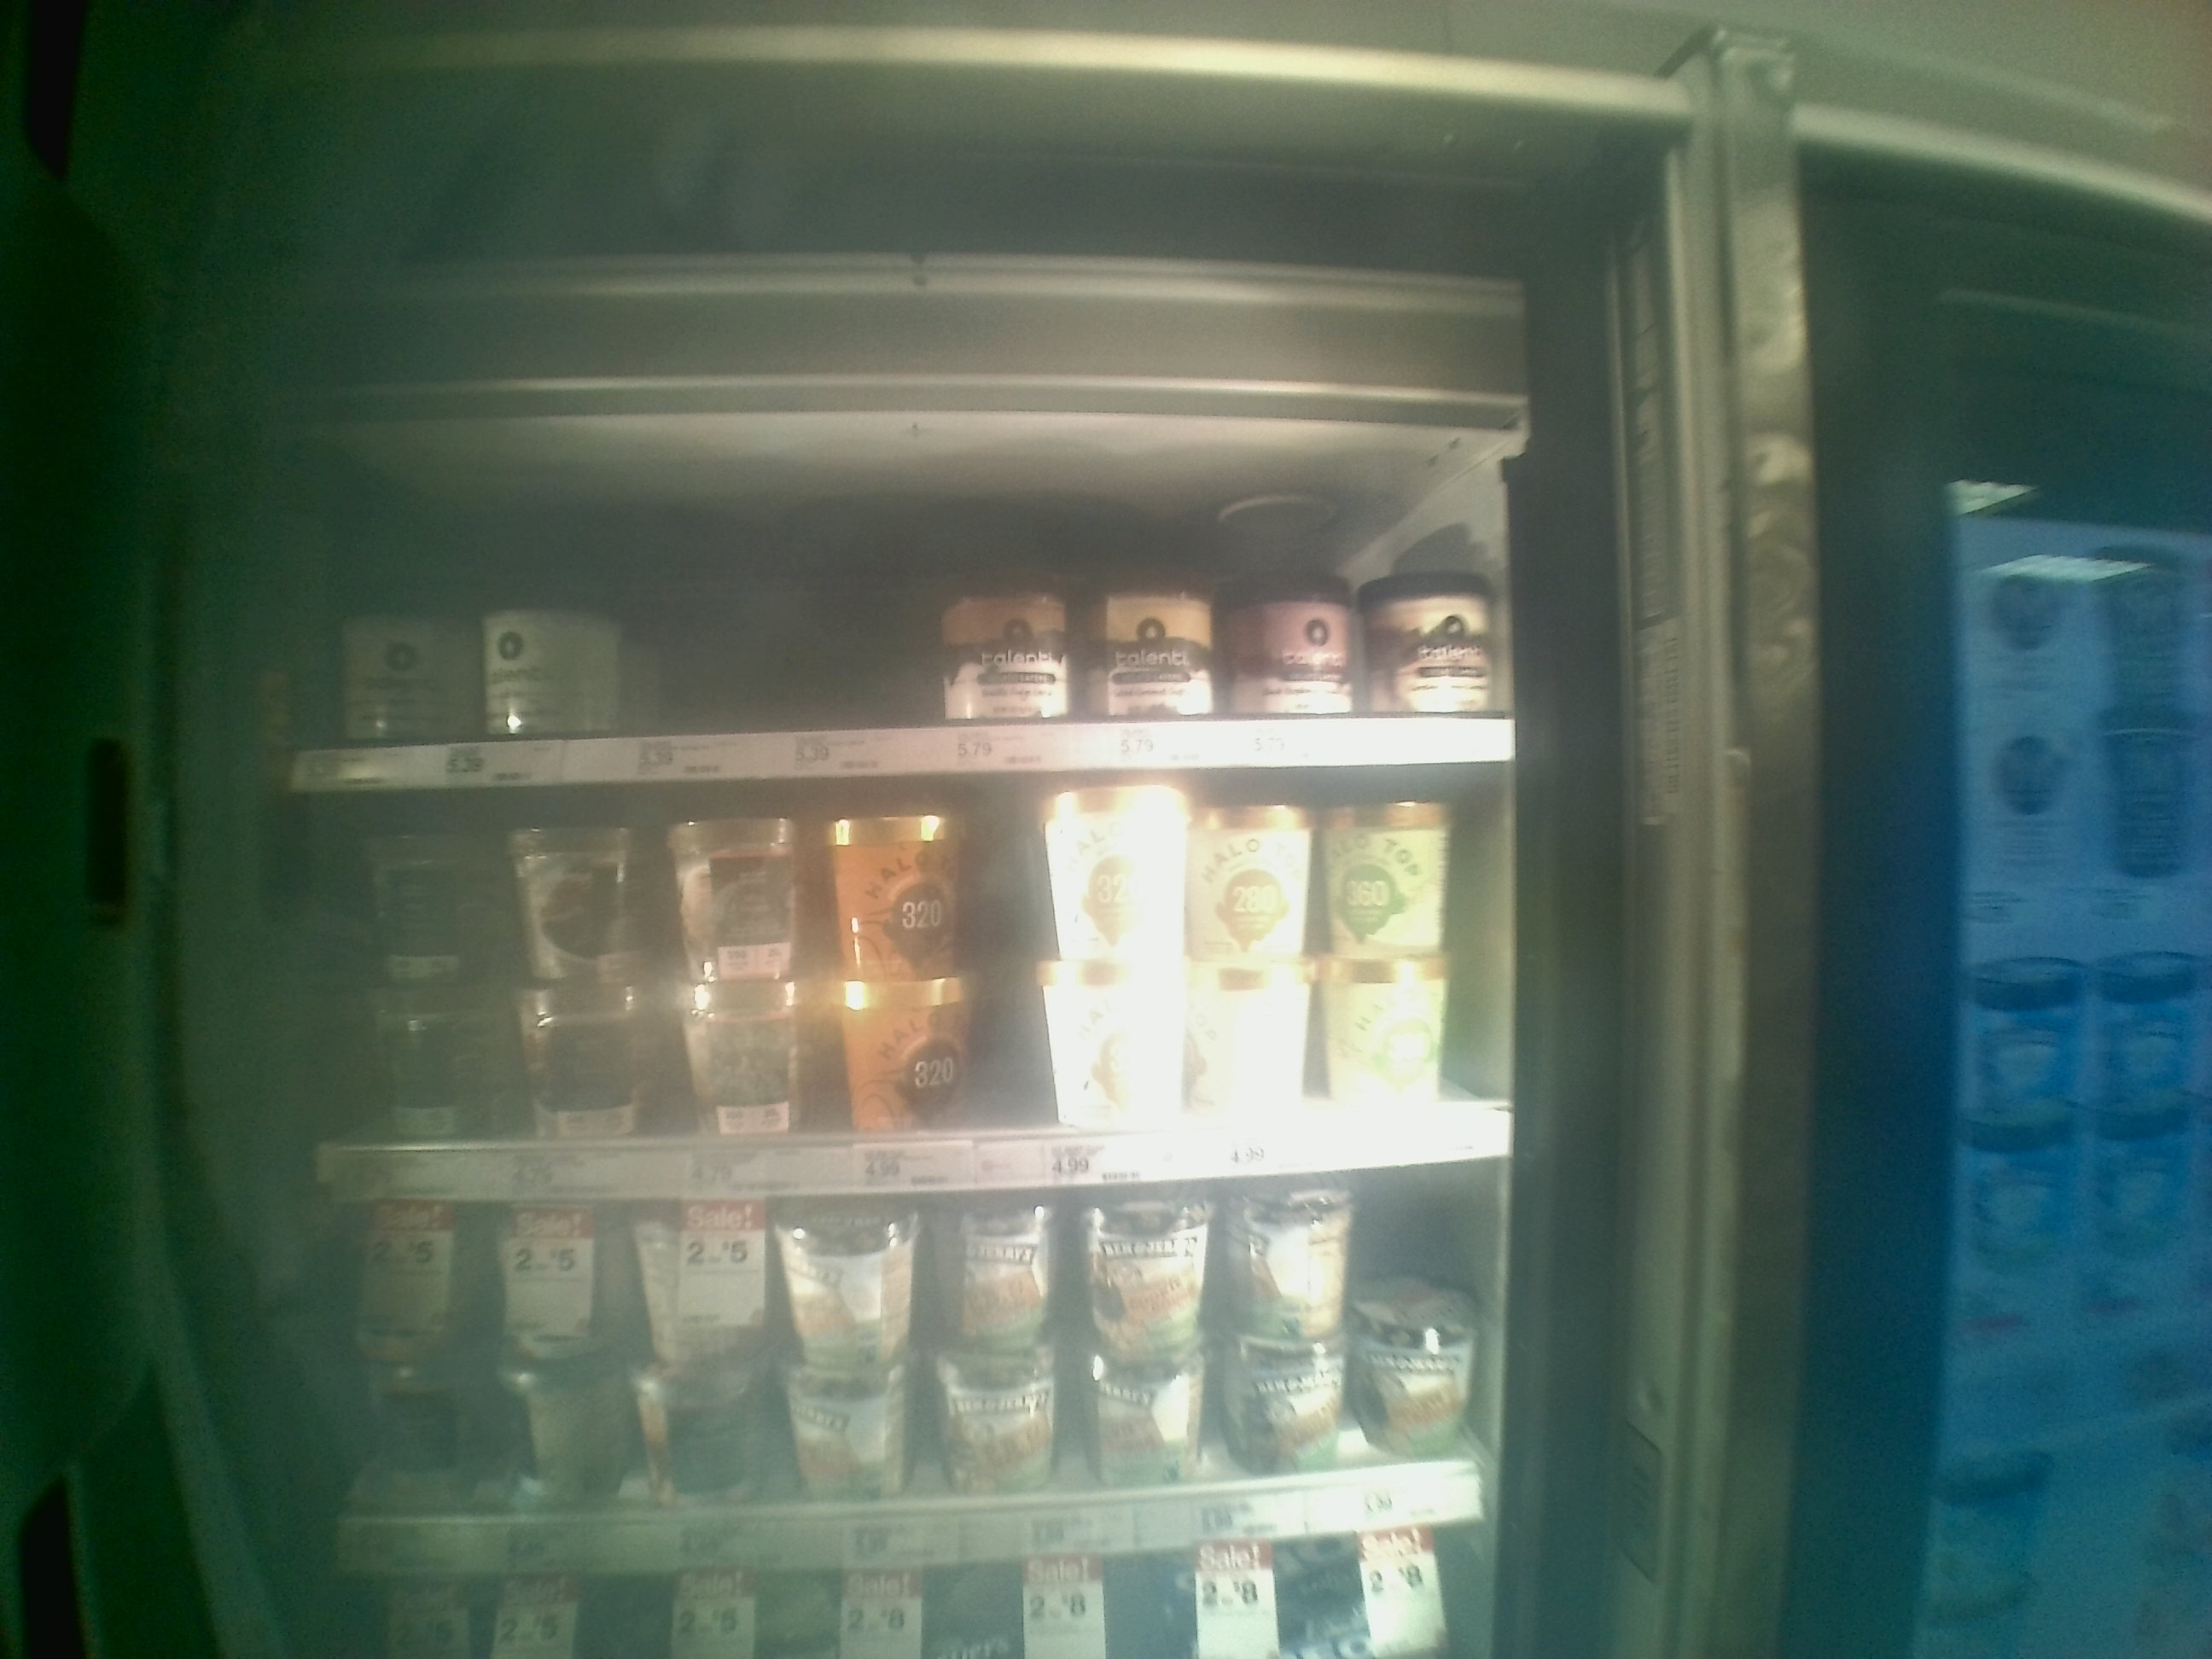ice-cream-shelf: (270, 782, 1521, 1183), (270, 1183, 1519, 1577), (279, 477, 1515, 777)
